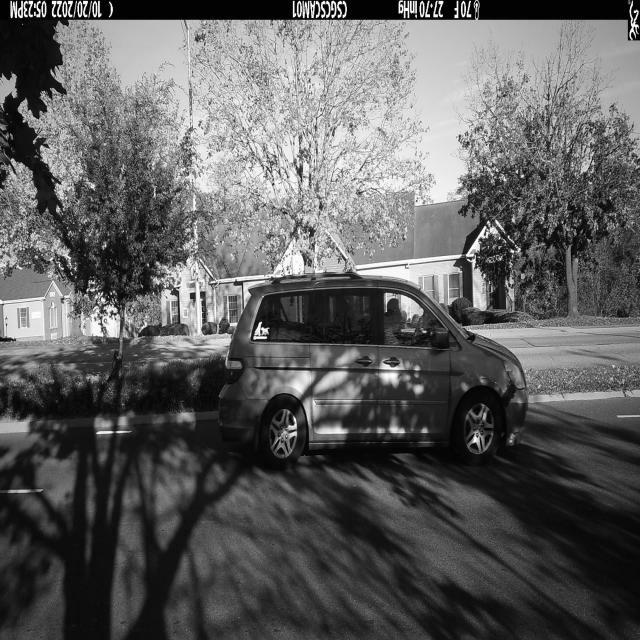Van: (216, 271, 528, 466)
